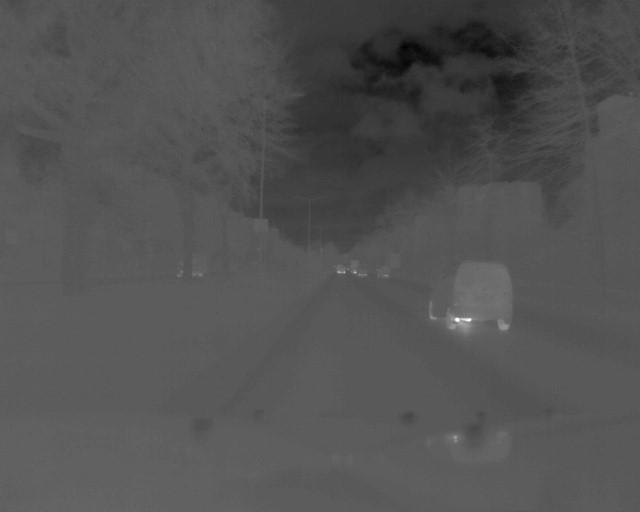car: (424, 261, 517, 337), (336, 263, 348, 276)
